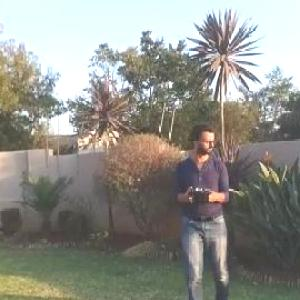follow: (173, 113, 239, 299)
